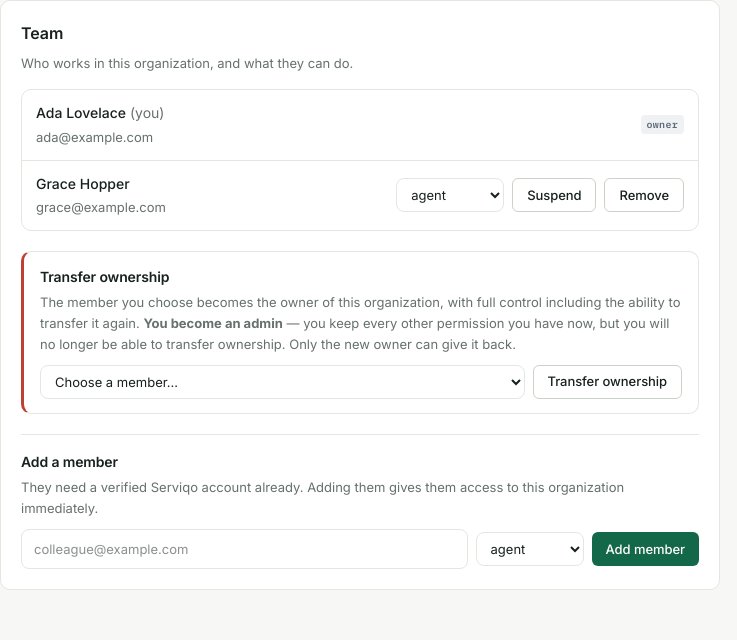
Test: TeamManagement › adding a member › states the reason a duplicate was refused
The image size is (737, 640).
Expected: the text "Grace Hopper" is shown, [36,175,130,192]
Step 1. Type "grace@example.com" into the field named "email address" → (244, 549), box [21,528,468,569]
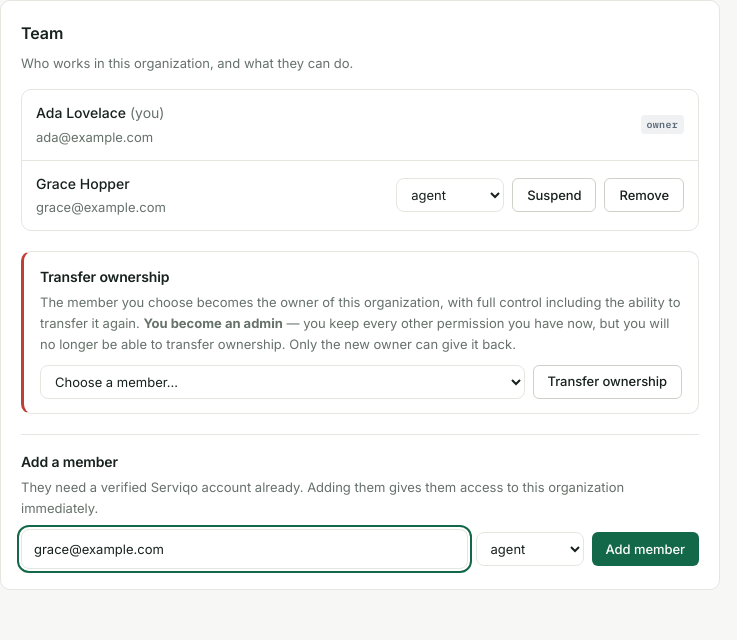
Step 2. Click the button "Add member" → (645, 549), box [592,532,699,566]
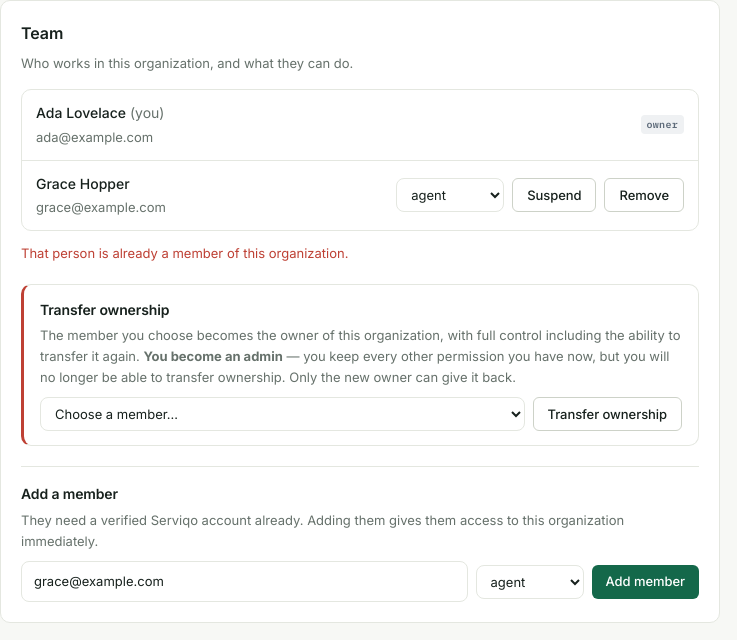
Result: the message shows "already a member" at [21,245,348,261]
